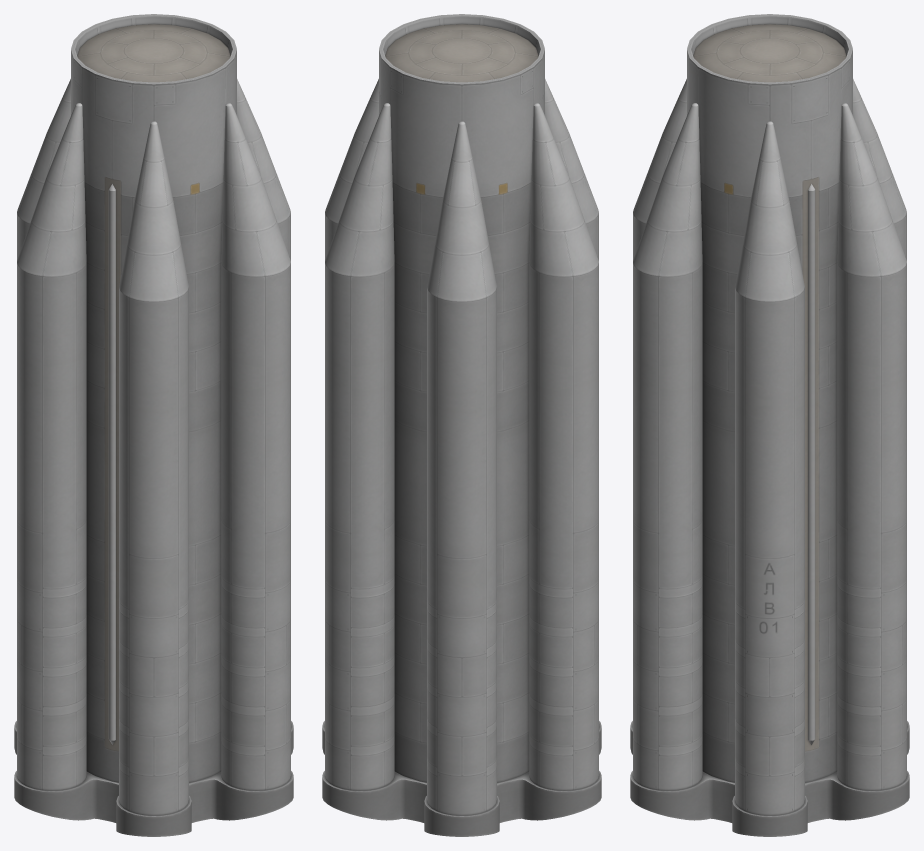
File: ALV_1_Engine_1.obj
3 renders of one model, left to right at view 1: azimuth 30°, elevation 25°; view 2: azimuth 150°, elevation 25°; view 3: azimuth 270°, elevation 25°, orthographic.
Visible parts, largest first — view 1: ALV_1_Engine_1; view 2: ALV_1_Engine_1; view 3: ALV_1_Engine_1.
Part boxes in pixels (<box>): ALV_1_Engine_1: <box>14,14,293,836</box>; ALV_1_Engine_1: <box>322,14,601,836</box>; ALV_1_Engine_1: <box>630,14,909,836</box>.
Size of the model in its own units: 4.68 by 12.3 by 4.21.
